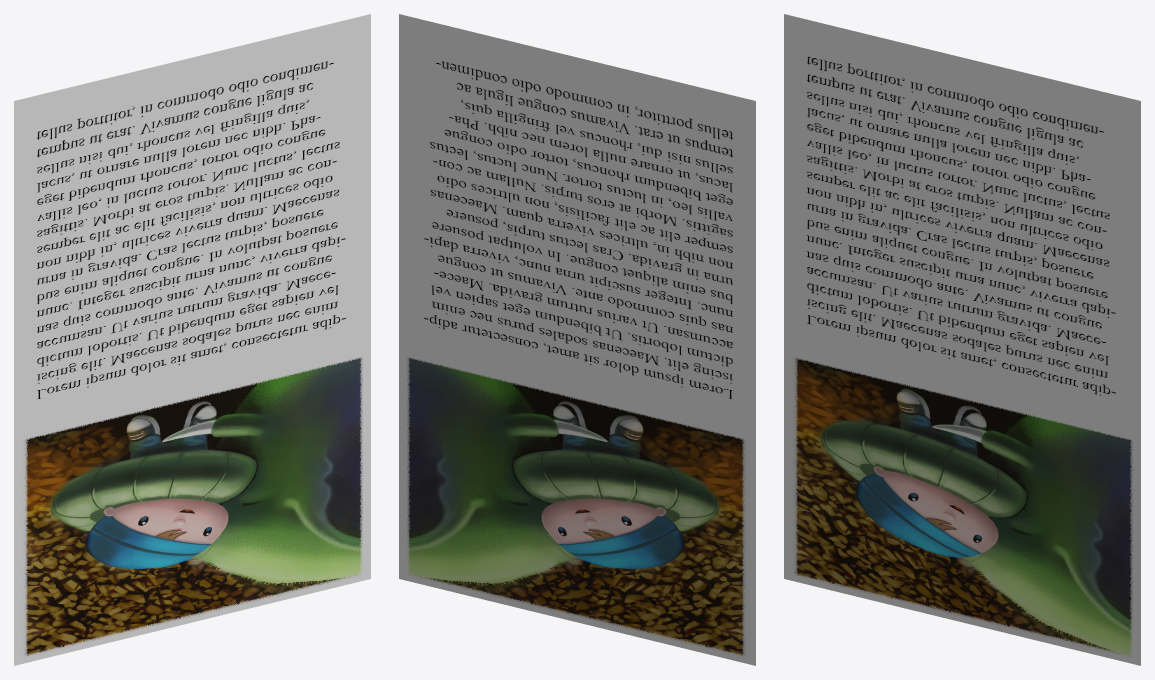
Rendered from page.obj.
3 renders of one model, left to right at view 1: azimuth 30°, elevation 25°; view 2: azimuth 150°, elevation 25°; view 3: azimuth 330°, elevation 25°, orthographic.
Visible parts, largest first — view 1: Plane; view 2: Plane; view 3: Plane.
Boxes of the visible parts, x1,y1,x2,y2 form: Plane: (14,14,370,665); Plane: (399,14,755,665); Plane: (784,14,1140,665).
Bounding box in the file's own units: 1.32 × 2 × 0.
Materials: 1 (1 with a texture image).
